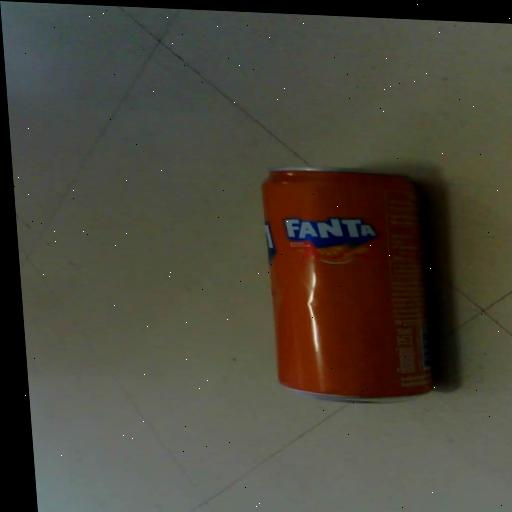canned: (233, 133, 485, 423)
